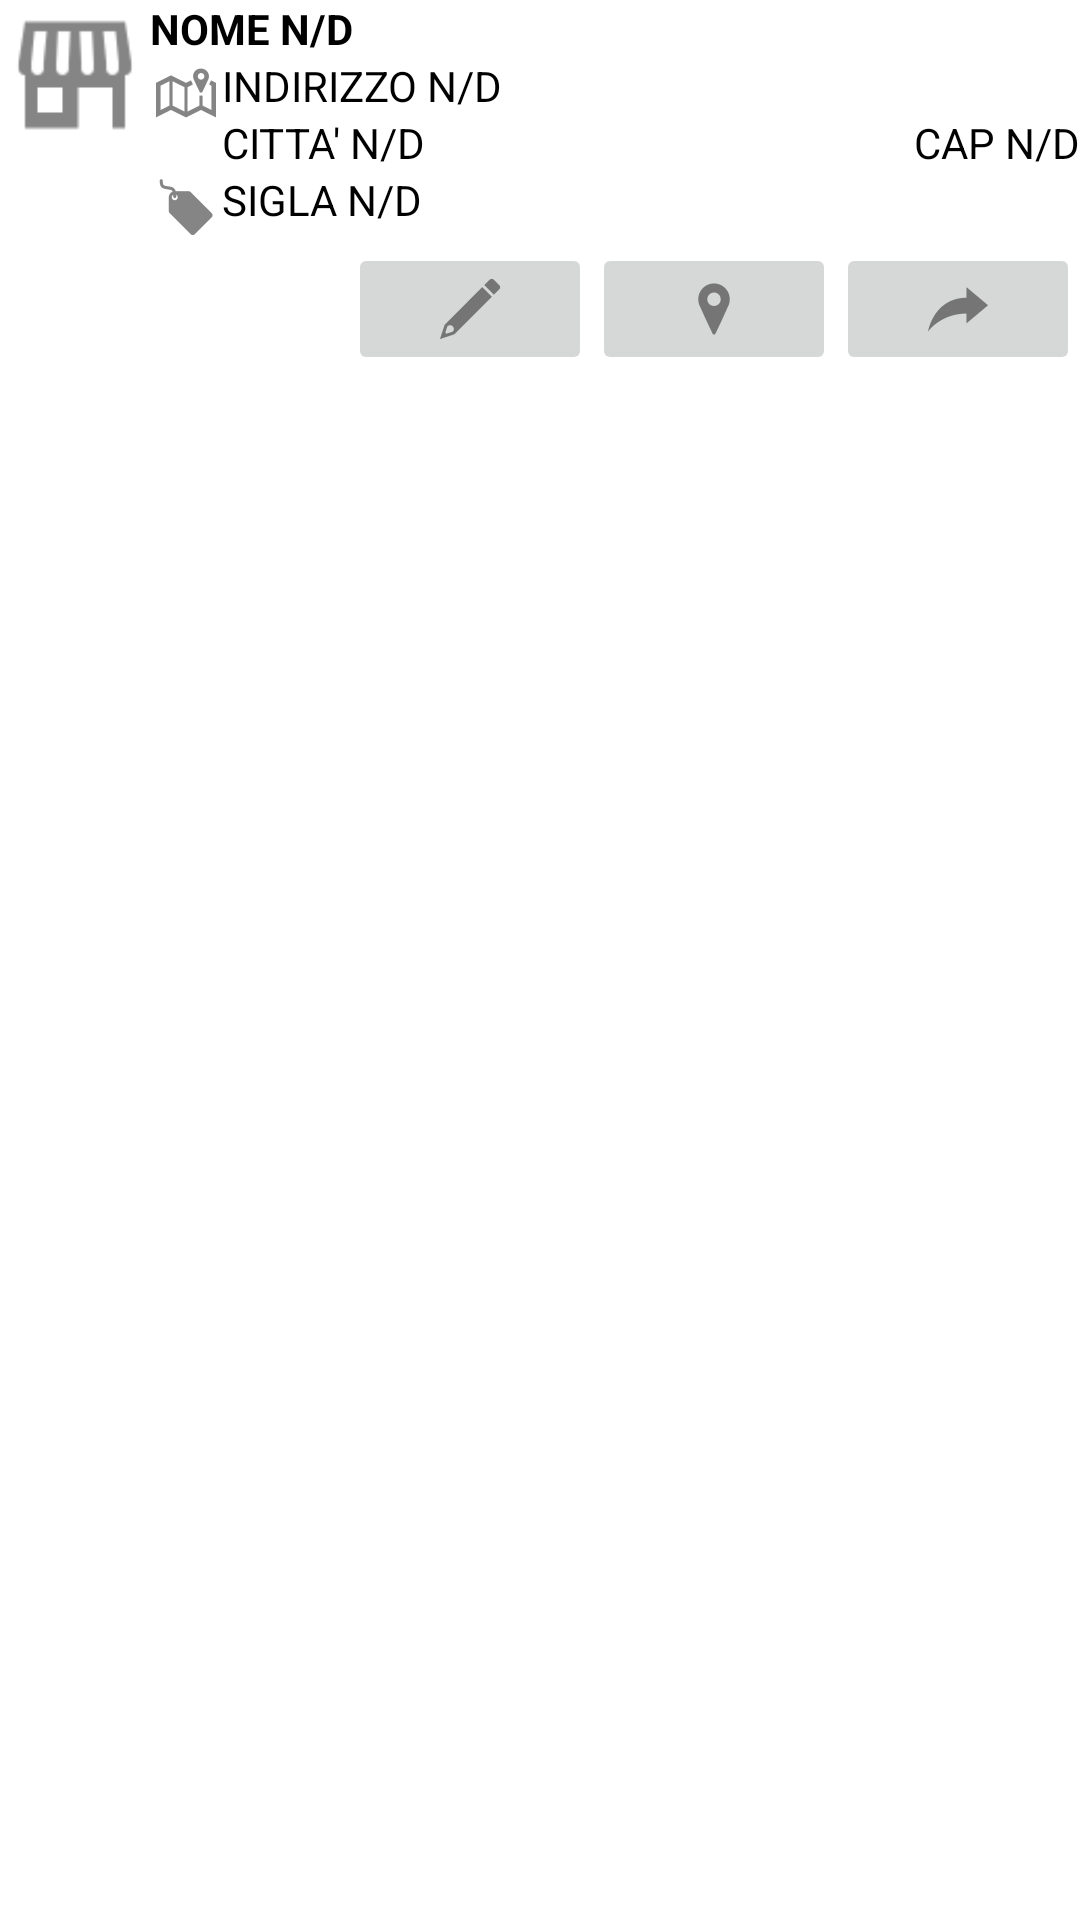

Screen size 1080px×1920px. Icon name, then its center in pixels as [x,y]:
edit: [470,309]
label: [186,207]
map: [186,92]
next: [958,309]
pin: [714,309]
shop: [75,75]
